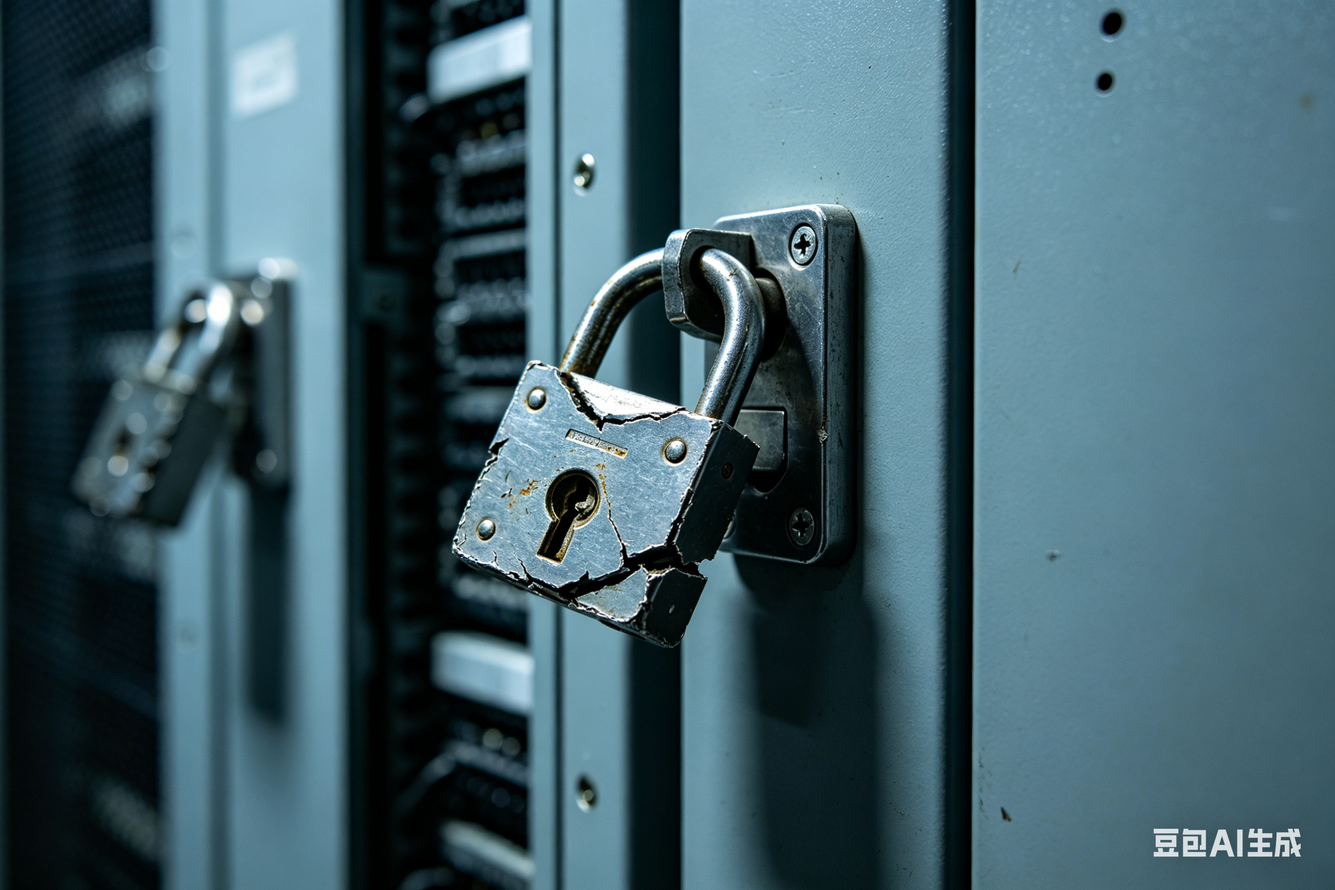BadLock: (529, 351, 750, 639)
